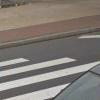Crosswalk: (6, 45, 89, 100)
